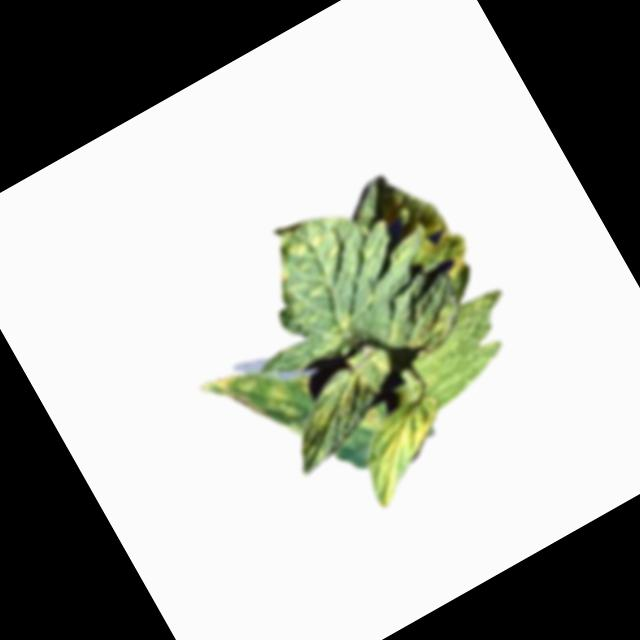Leaf_Mold: (194, 335, 334, 471), (341, 391, 467, 510), (301, 349, 404, 433), (257, 203, 350, 288), (408, 212, 480, 288)
